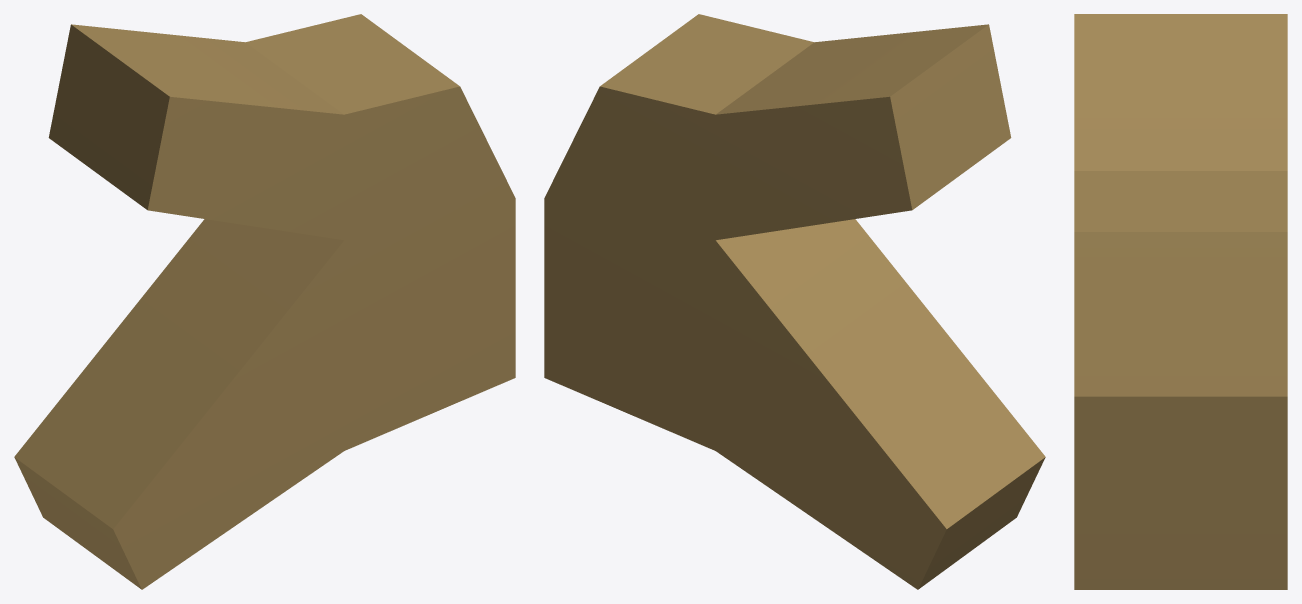
File: SniperRifle5_06_4.fbx
3 views of the same model, side by side, from view 1: azimuth 30°, elevation 25°; view 2: azimuth 150°, elevation 25°; view 3: azimuth 270°, elevation 25° (orthographic). The views are drawn at different scales.
Parts seen in each view (by area): view 1: SniperRifle5_06_4; view 2: SniperRifle5_06_4; view 3: SniperRifle5_06_4.
Part boxes in pixels (<box>): SniperRifle5_06_4: <box>14,14,515,589</box>; SniperRifle5_06_4: <box>544,14,1045,589</box>; SniperRifle5_06_4: <box>1074,14,1287,589</box>.
Bounding box in the file's own units: 0.0278 × 0.0321 × 0.0118.
